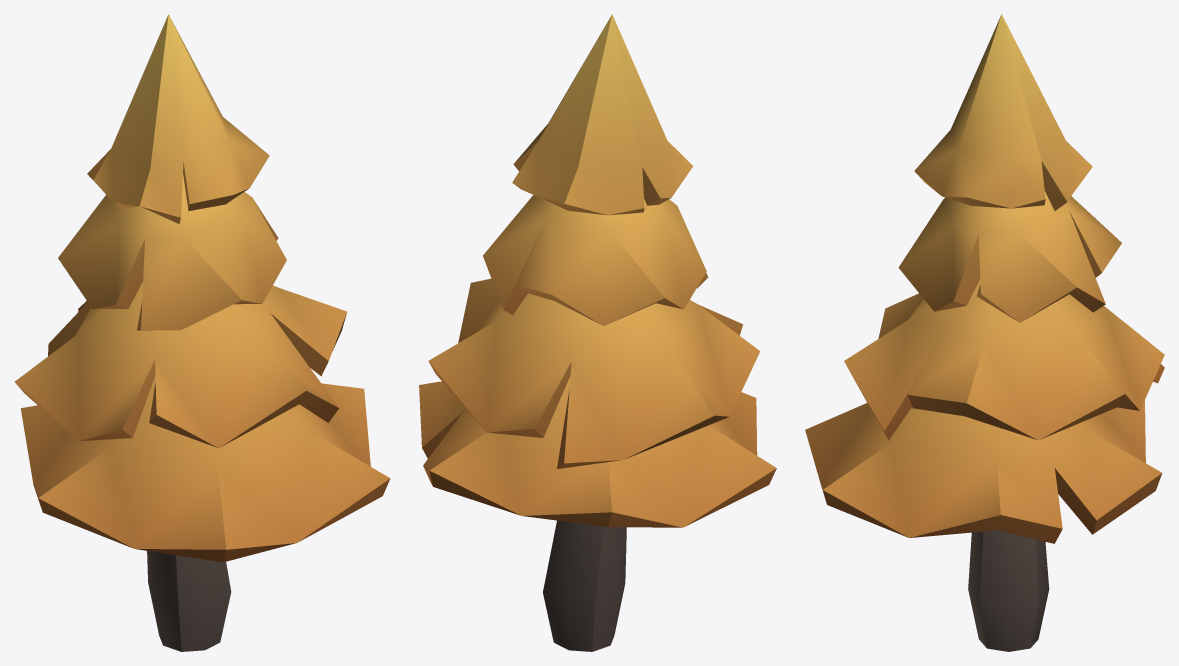
The model's file is tree_pine_yellow_medium.obj.
3 renders of one model, left to right at view 1: azimuth 30°, elevation 25°; view 2: azimuth 150°, elevation 25°; view 3: azimuth 270°, elevation 25°, orthographic. The views are drawn at different scales.
Parts seen in each view (by area): view 1: tree_pine_yellow_medium_Cube.098; view 2: tree_pine_yellow_medium_Cube.098; view 3: tree_pine_yellow_medium_Cube.098.
Part boxes in pixels (x1,y1,x2,y2): tree_pine_yellow_medium_Cube.098: (14,14,390,651); tree_pine_yellow_medium_Cube.098: (419,14,776,651); tree_pine_yellow_medium_Cube.098: (805,14,1164,651).
Size of the model in its own units: 3.33 by 5.87 by 3.12.
1 material, 1 textured.
